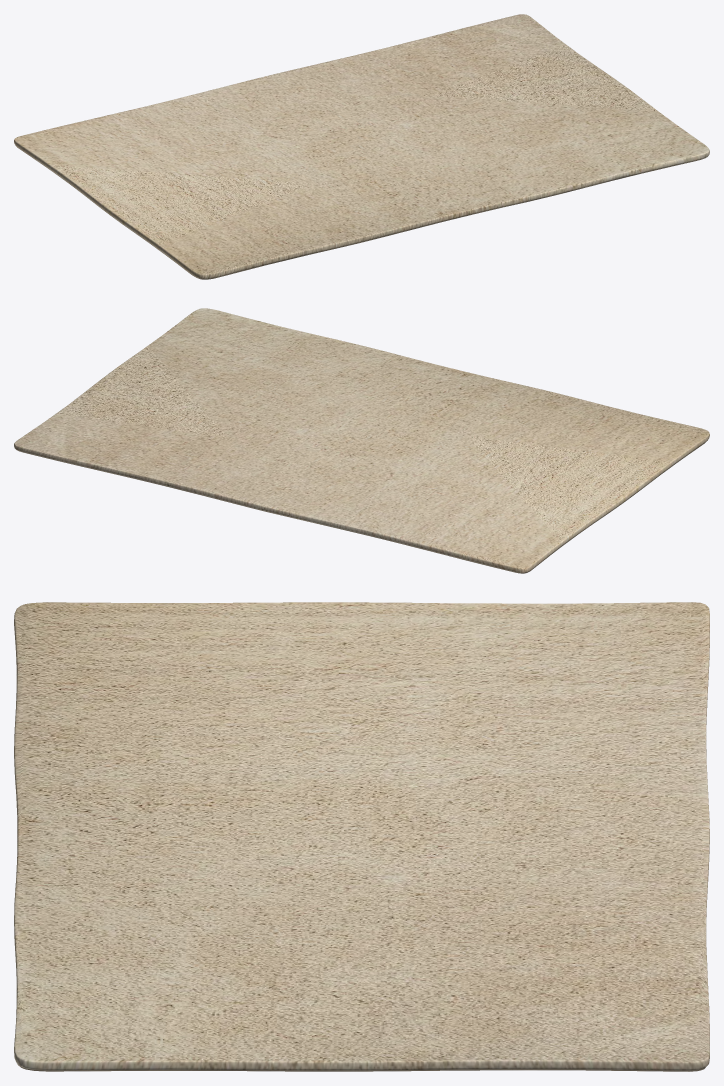
Rendered from B07Q88MYL4.glb.
3 renders of one model, top to bottom at view 1: azimuth 30°, elevation 25°; view 2: azimuth 150°, elevation 25°; view 3: azimuth 270°, elevation 25°, orthographic. The views are drawn at different scales.
Parts seen in each view (by area): view 1: RootNode; view 2: RootNode; view 3: RootNode.
Boxes of the visible parts, x1=… form: RootNode: x1=14, y1=14, x2=709, y2=279; RootNode: x1=14, y1=308, x2=709, y2=573; RootNode: x1=14, y1=602, x2=709, y2=1071.
Size of the model in its own units: 2.35 by 0.0252 by 1.5.
1 material, 1 textured.
